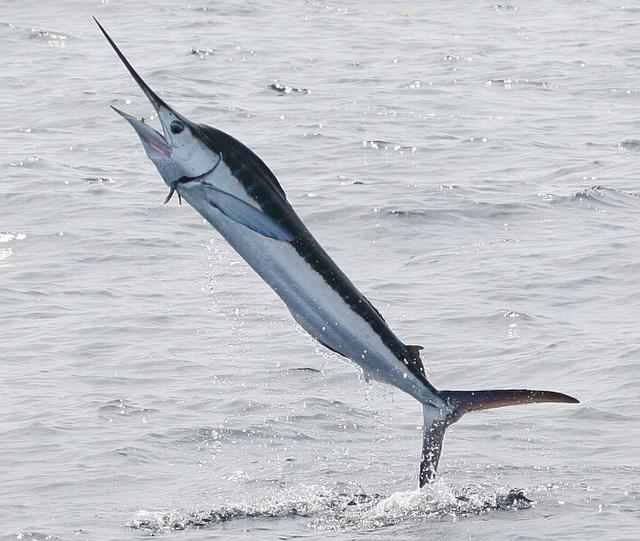Mulut: (78, 6, 188, 166)
Sirip Anal: (350, 333, 434, 394)
Sirip Dada: (198, 171, 308, 261)
Sirip Ekor: (410, 379, 588, 505)
